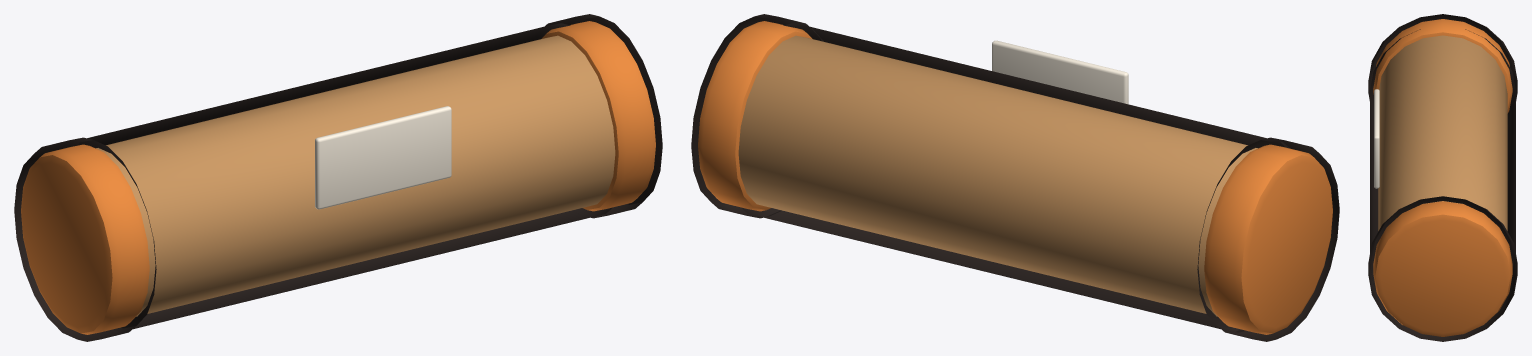
Rendered from parcel_tube.fbx.
The picture shows the model from 3 angles, left to right: view 1: azimuth 30°, elevation 25°; view 2: azimuth 150°, elevation 25°; view 3: azimuth 270°, elevation 25°; orthographic projection. The views are drawn at different scales.
Visible parts, largest first — view 1: parcel_tube_C_C99660, parcel_tube_C_E8873A, parcel_tube_Outline, parcel_tube_C_FFF6E6; view 2: parcel_tube_C_C99660, parcel_tube_C_E8873A, parcel_tube_Outline, parcel_tube_C_FFF6E6; view 3: parcel_tube_C_C99660, parcel_tube_C_E8873A, parcel_tube_Outline, parcel_tube_C_FFF6E6.
Boxes of the visible parts, bbox=[...] form: parcel_tube_C_C99660: bbox=[96, 35, 615, 316]; parcel_tube_C_E8873A: bbox=[21, 21, 655, 334]; parcel_tube_Outline: bbox=[14, 14, 662, 341]; parcel_tube_C_FFF6E6: bbox=[315, 106, 451, 209]; parcel_tube_C_C99660: bbox=[738, 35, 1257, 316]; parcel_tube_C_E8873A: bbox=[698, 21, 1332, 334]; parcel_tube_Outline: bbox=[691, 14, 1339, 341]; parcel_tube_C_FFF6E6: bbox=[992, 40, 1128, 104]; parcel_tube_C_C99660: bbox=[1378, 35, 1507, 230]; parcel_tube_C_E8873A: bbox=[1373, 19, 1512, 336]; parcel_tube_Outline: bbox=[1368, 14, 1517, 341]; parcel_tube_C_FFF6E6: bbox=[1374, 89, 1379, 188].
Size of the model in its own units: 0.6641 by 0.2081 by 0.2081.
